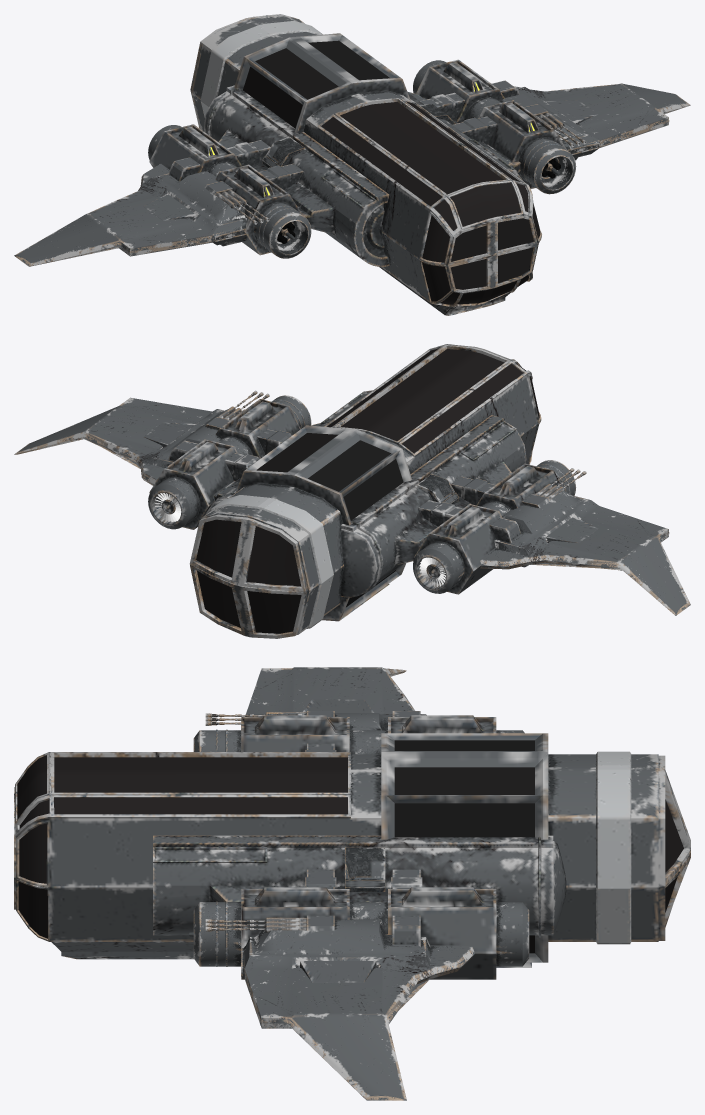
The picture shows the model from 3 angles, top to bottom: view 1: azimuth 30°, elevation 25°; view 2: azimuth 150°, elevation 25°; view 3: azimuth 270°, elevation 25°; orthographic projection. The views are drawn at different scales.
Visible parts, largest first — view 1: polySurface122, polySurface91 (×2), polySurface82 (×2), polySurface118, polySurface84 (×2), polySurface143 (×2), polySurface95 (×2), polySurface92 (×2), polySurface83, polySurface127; view 2: polySurface122, polySurface91 (×2), polySurface82 (×2), polySurface118, polySurface143 (×2), polySurface84 (×2), polySurface95 (×2), polySurface92 (×2), polySurface83, polySurface127; view 3: polySurface122, polySurface91 (×2), polySurface82, polySurface118, polySurface143 (×2), polySurface84 (×2), polySurface83, polySurface95, polySurface127, polySurface92.
Part boxes in pixels (left/top/right/bottom): polySurface122: left=190, top=14, right=541, bottom=315; polySurface91 (×2): left=14, top=60, right=690, bottom=266; polySurface82 (×2): left=204, top=85, right=522, bottom=266; polySurface118: left=234, top=33, right=410, bottom=228; polySurface84 (×2): left=215, top=100, right=567, bottom=255; polySurface143 (×2): left=149, top=59, right=504, bottom=173; polySurface95 (×2): left=168, top=80, right=519, bottom=181; polySurface92 (×2): left=204, top=104, right=549, bottom=195; polySurface83: left=262, top=137, right=304, bottom=167; polySurface127: left=216, top=189, right=269, bottom=224; polySurface122: left=189, top=344, right=541, bottom=638; polySurface91 (×2): left=14, top=395, right=690, bottom=615; polySurface82 (×2): left=205, top=390, right=526, bottom=597; polySurface118: left=235, top=425, right=411, bottom=621; polySurface143 (×2): left=149, top=439, right=502, bottom=594; polySurface84 (×2): left=215, top=399, right=561, bottom=509; polySurface95 (×2): left=168, top=440, right=520, bottom=542; polySurface92 (×2): left=205, top=417, right=549, bottom=508; polySurface83: left=416, top=474, right=458, bottom=504; polySurface127: left=535, top=468, right=586, bottom=499; polySurface122: left=14, top=751, right=690, bottom=959; polySurface91 (×2): left=189, top=667, right=529, bottom=1100; polySurface82: left=153, top=835, right=566, bottom=937; polySurface118: left=381, top=733, right=548, bottom=967; polySurface143 (×2): left=388, top=715, right=496, bottom=979; polySurface84 (×2): left=241, top=715, right=349, bottom=979; polySurface83: left=345, top=847, right=385, bottom=891; polySurface95: left=391, top=869, right=422, bottom=946; polySurface127: left=205, top=917, right=306, bottom=932; polySurface92: left=305, top=869, right=336, bottom=930.
Size of the model in its own units: 0.9447 by 0.1989 by 0.6288.
15 materials, 10 textured.
